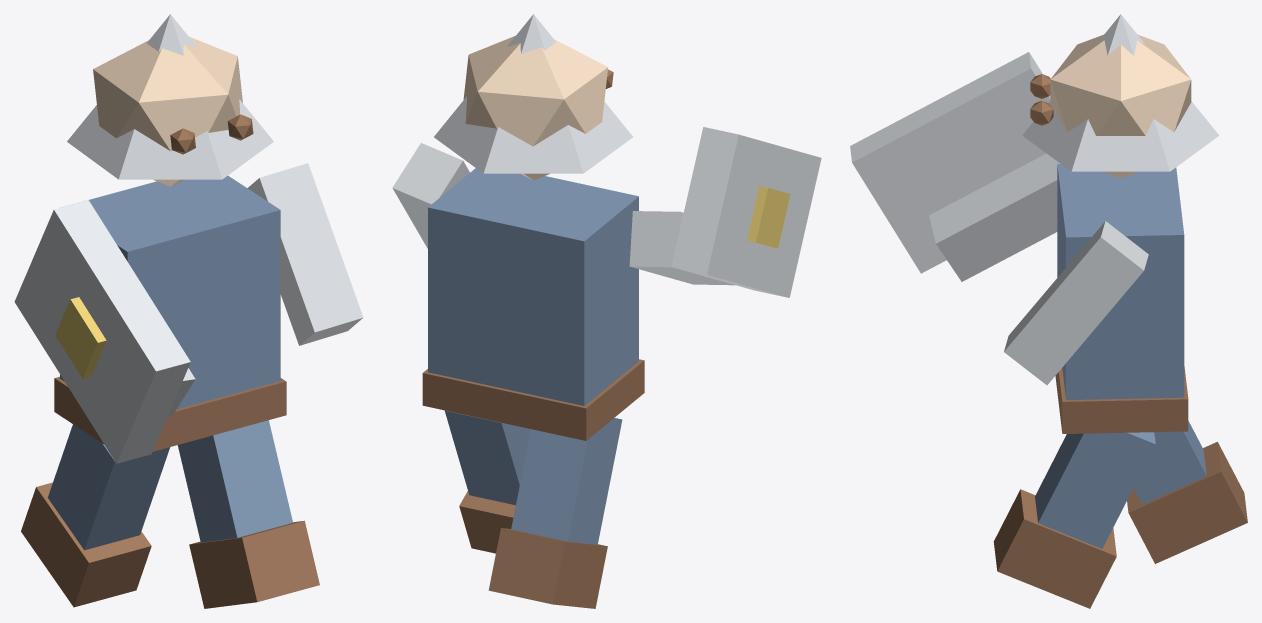
The model's file is npcpose_guard_walk_03.glb.
3 views of the same model, side by side, from view 1: azimuth 30°, elevation 25°; view 2: azimuth 150°, elevation 25°; view 3: azimuth 270°, elevation 25° (orthographic). The views are drawn at different scales.
Visible parts, largest first — view 1: npcpose; view 2: npcpose; view 3: npcpose.
Part boxes in pixels (x1,y1,x2,y2): npcpose: [14, 14, 363, 608]; npcpose: [392, 14, 821, 608]; npcpose: [850, 14, 1247, 608].
Size of the model in its own units: 0.868 by 1.56 by 1.01.
